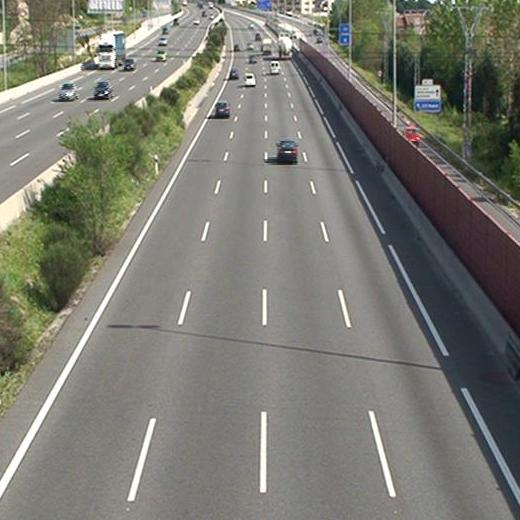car: (278, 141, 297, 160), (215, 103, 229, 118), (244, 74, 255, 85), (229, 68, 239, 79)
tank-truck: (279, 32, 294, 59)
van: (270, 60, 281, 74)
